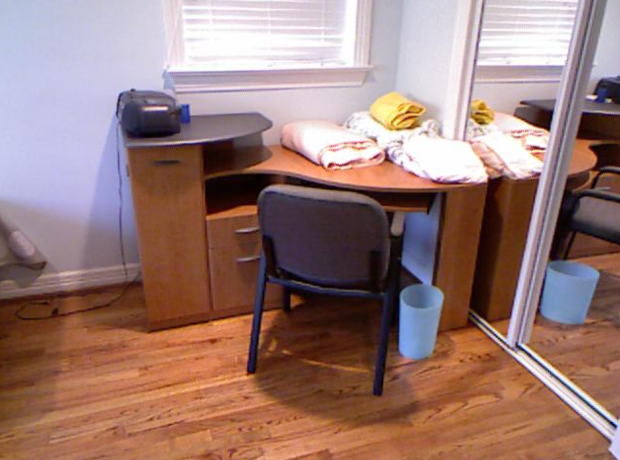cabinetDoor: (139, 148, 201, 311), (210, 245, 258, 308), (207, 219, 269, 240)
chair: (245, 184, 390, 395)
table: (280, 139, 479, 183)
window: (183, 4, 345, 62)
